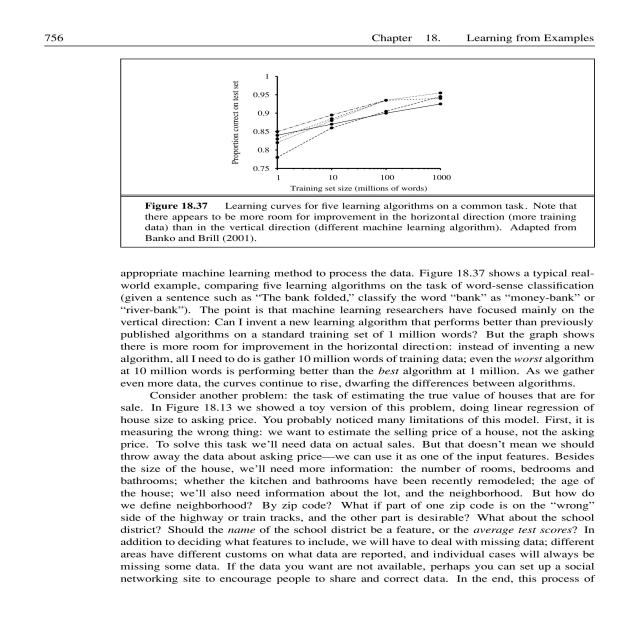diagram: (121, 61, 610, 252)
